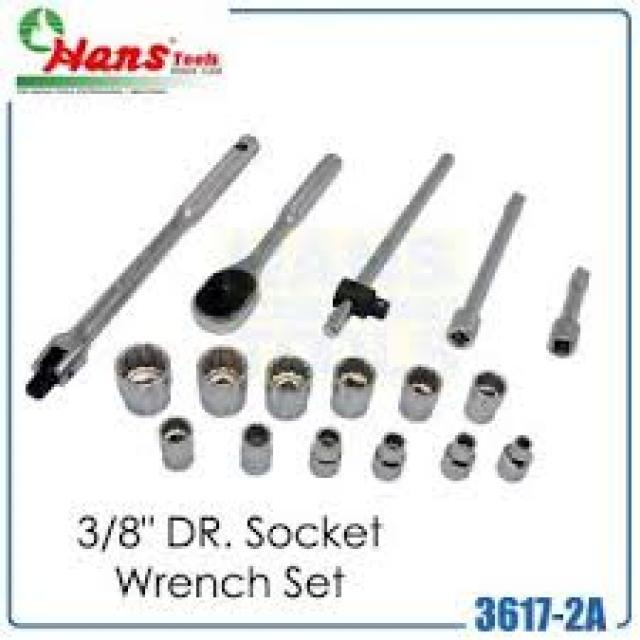wrench: (190, 138, 362, 338)
